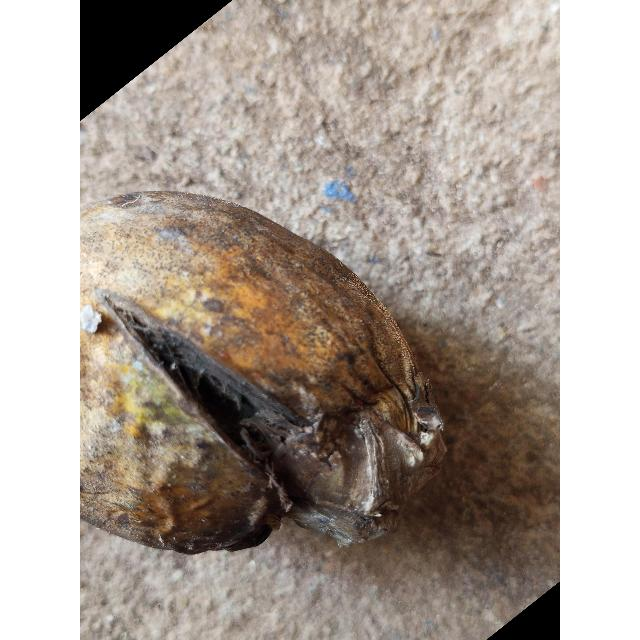damaged: (80, 189, 447, 558)
